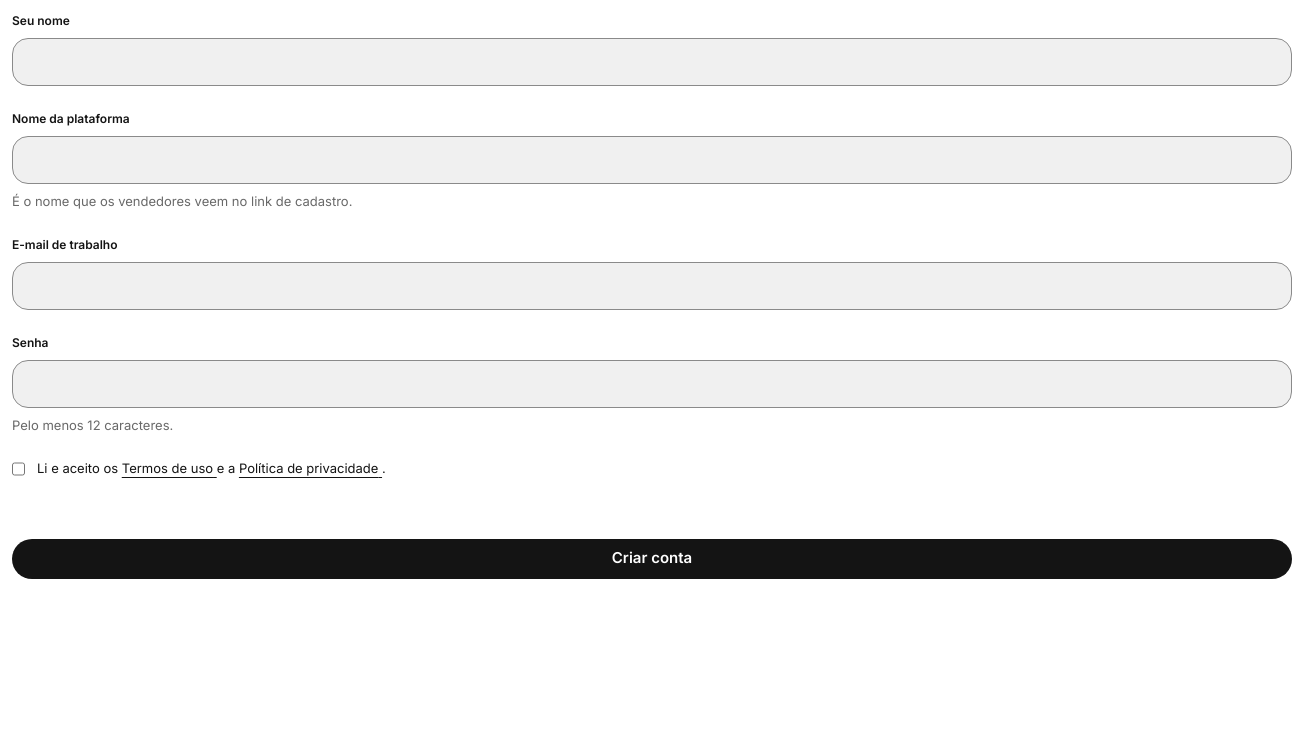
Test case: SignupForm (S1, AC 1, AC 2) › EMAIL_EM_USO: the message with working Entrar and Recuperar senha links
The width and height of the screenshot is (1304, 732).
Type "Pessoa Exemplo" into the field labelled "Seu nome".
click(652, 62); type("Pessoa Exemplo")  # box [12, 38, 1292, 86]
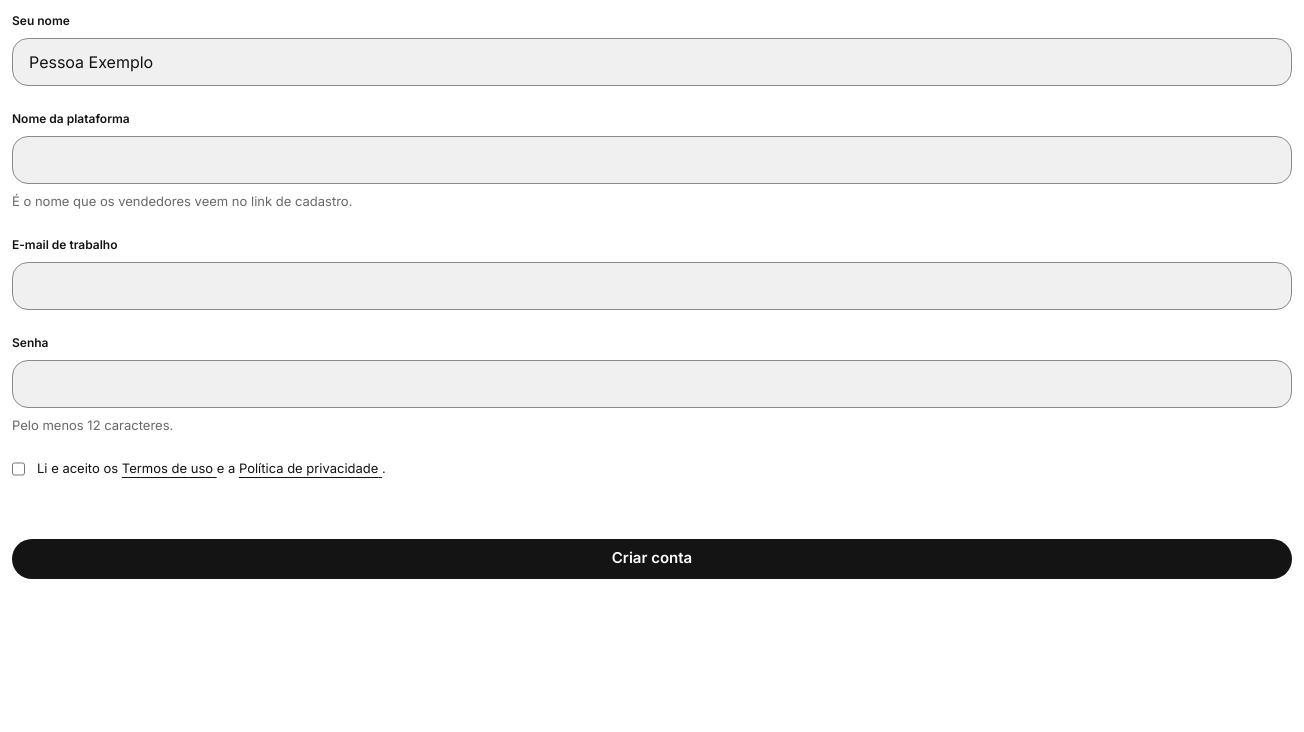
Type "Plataforma" into the field labelled "Nome da plataforma".
click(652, 160); type("Plataforma")  # box [12, 136, 1292, 184]
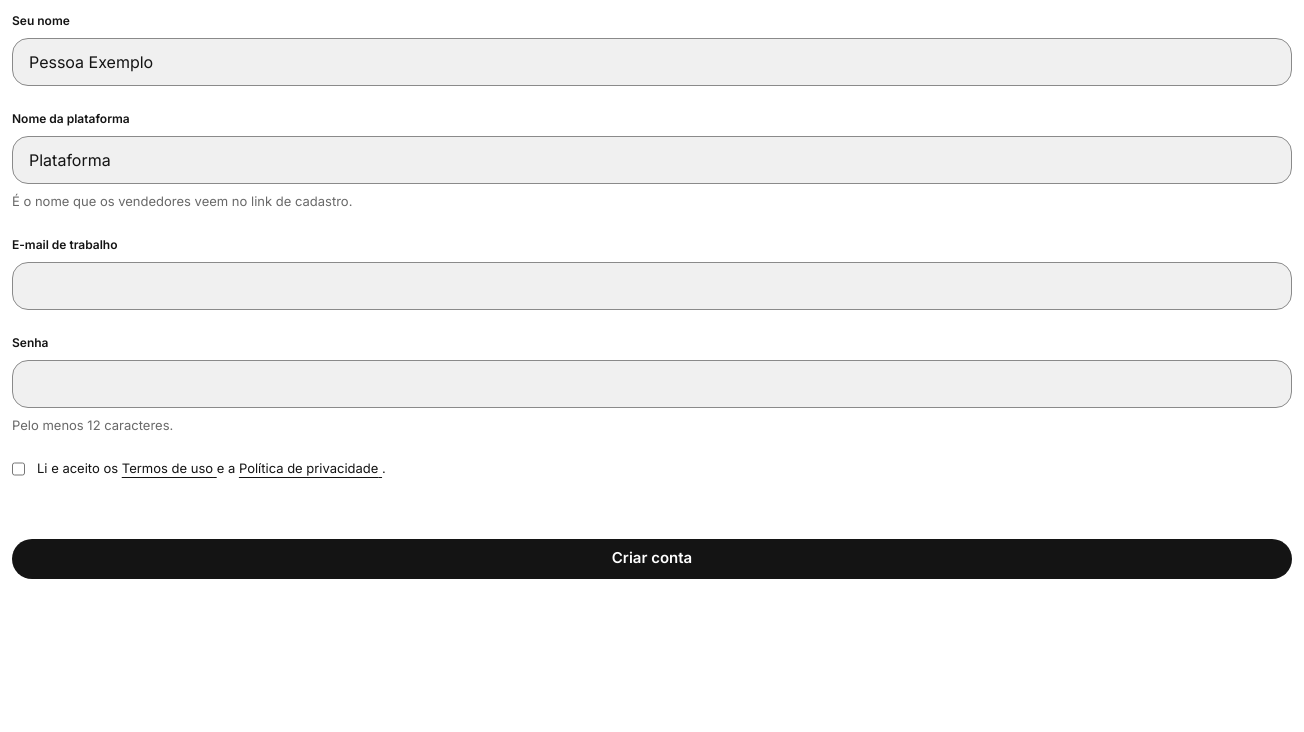
Type "pessoa@exemplo.test" into the field labelled "E-mail de trabalho".
click(652, 286); type("pessoa@exemplo.test")  # box [12, 262, 1292, 310]
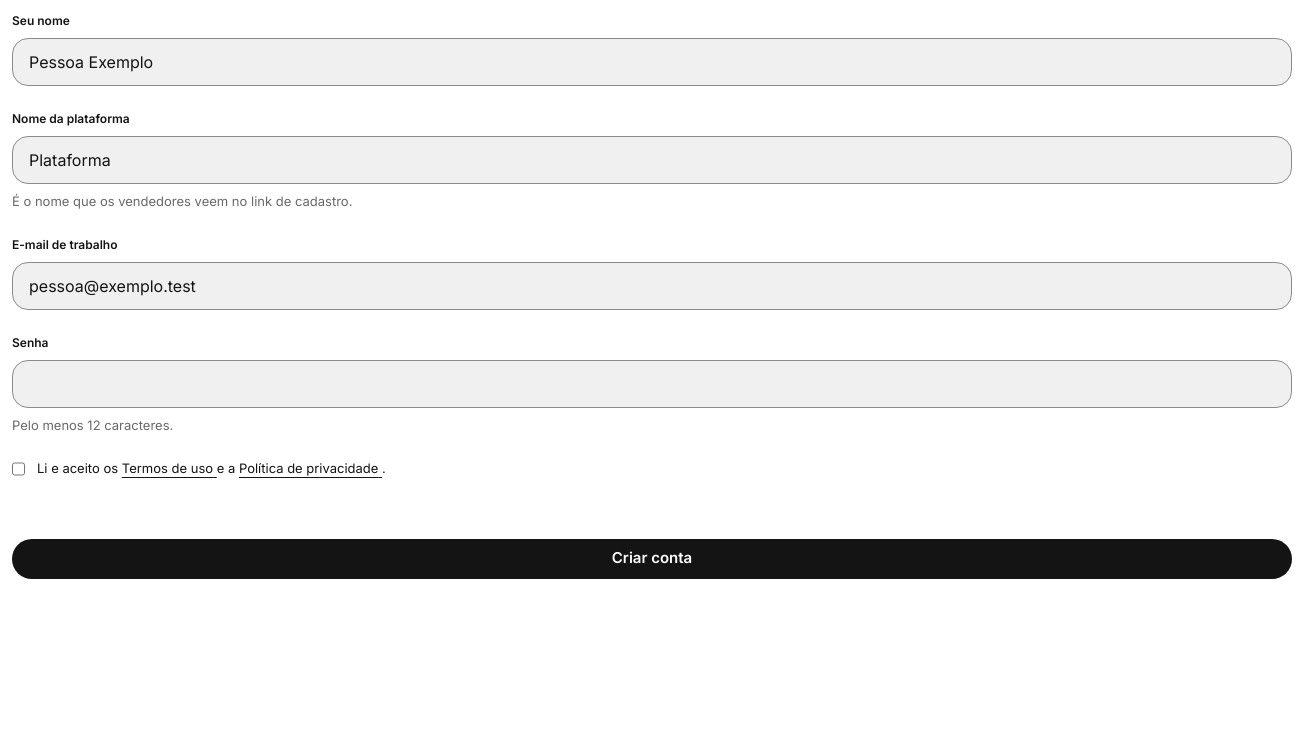
Type "senha-longa-123" into the password field labelled "Senha".
click(652, 384); type("senha-longa-123")  # box [12, 360, 1292, 408]
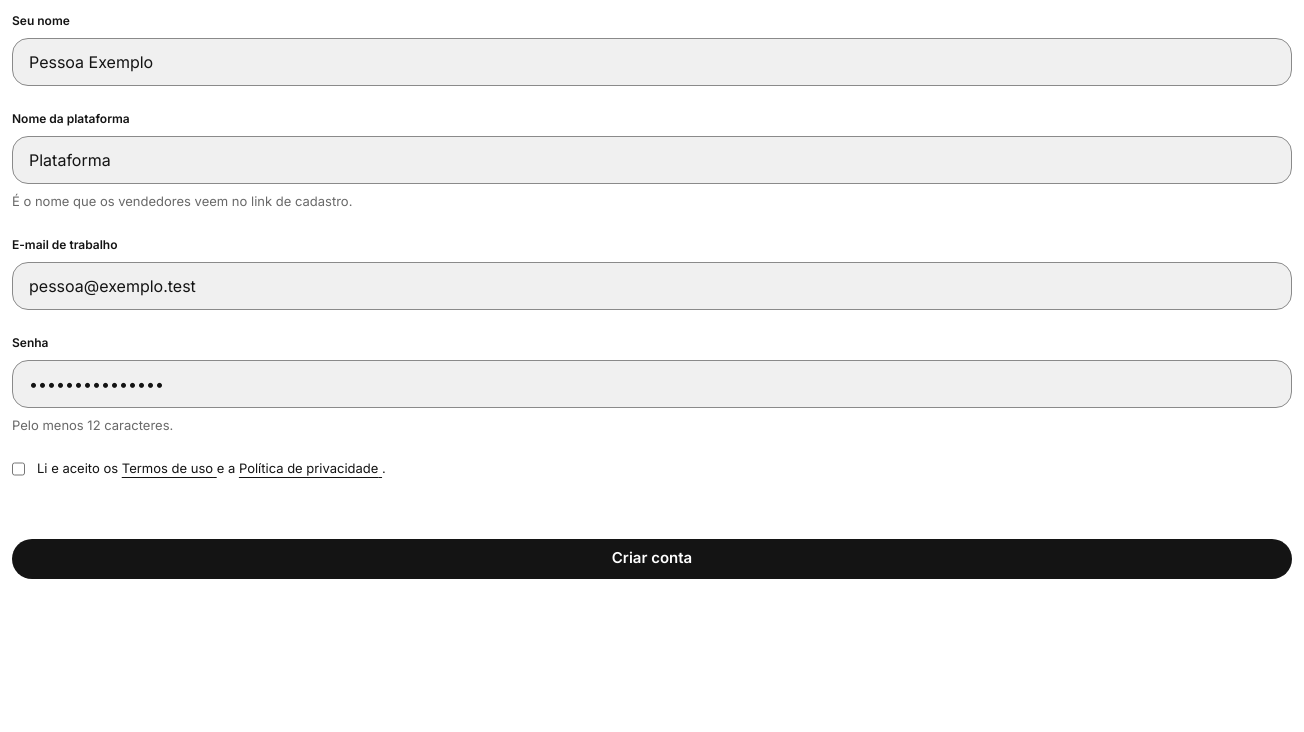
Click the checkbox.
click(18, 469)  # box [12, 459, 25, 478]
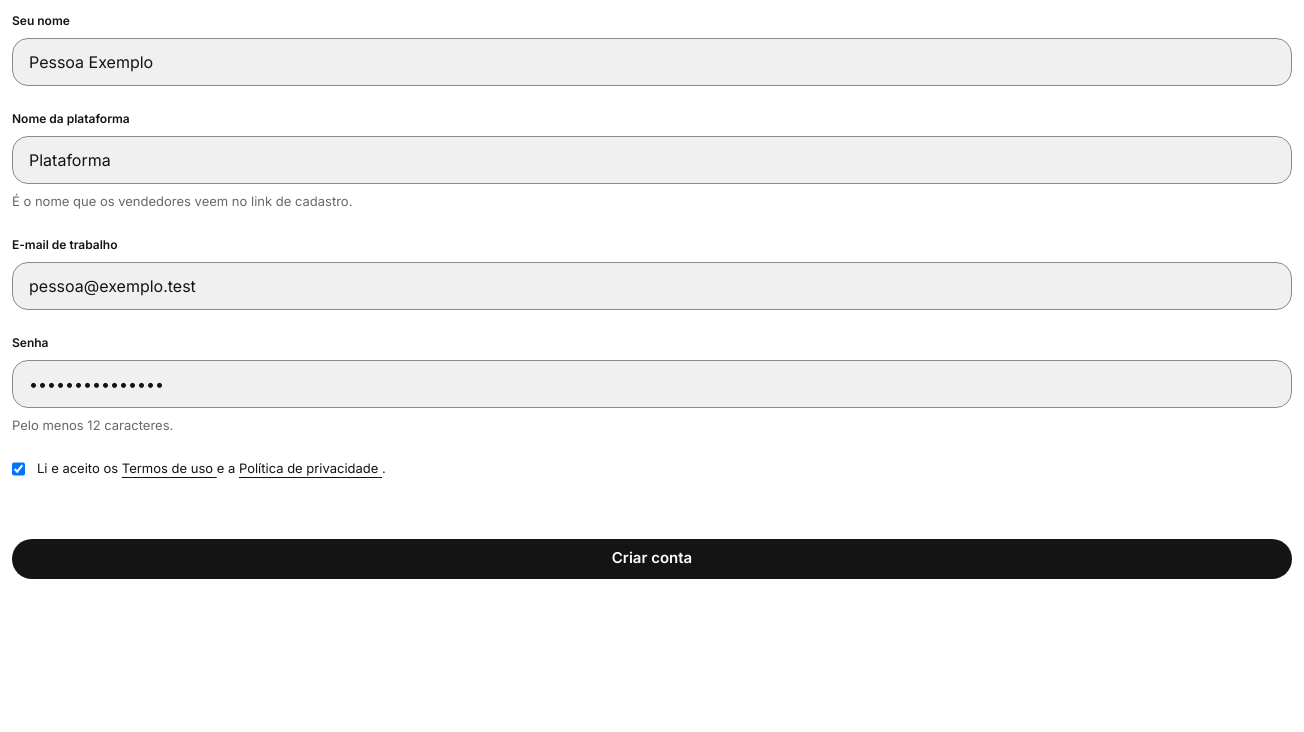
Click the button "Criar conta".
click(652, 558)  # box [12, 538, 1292, 578]
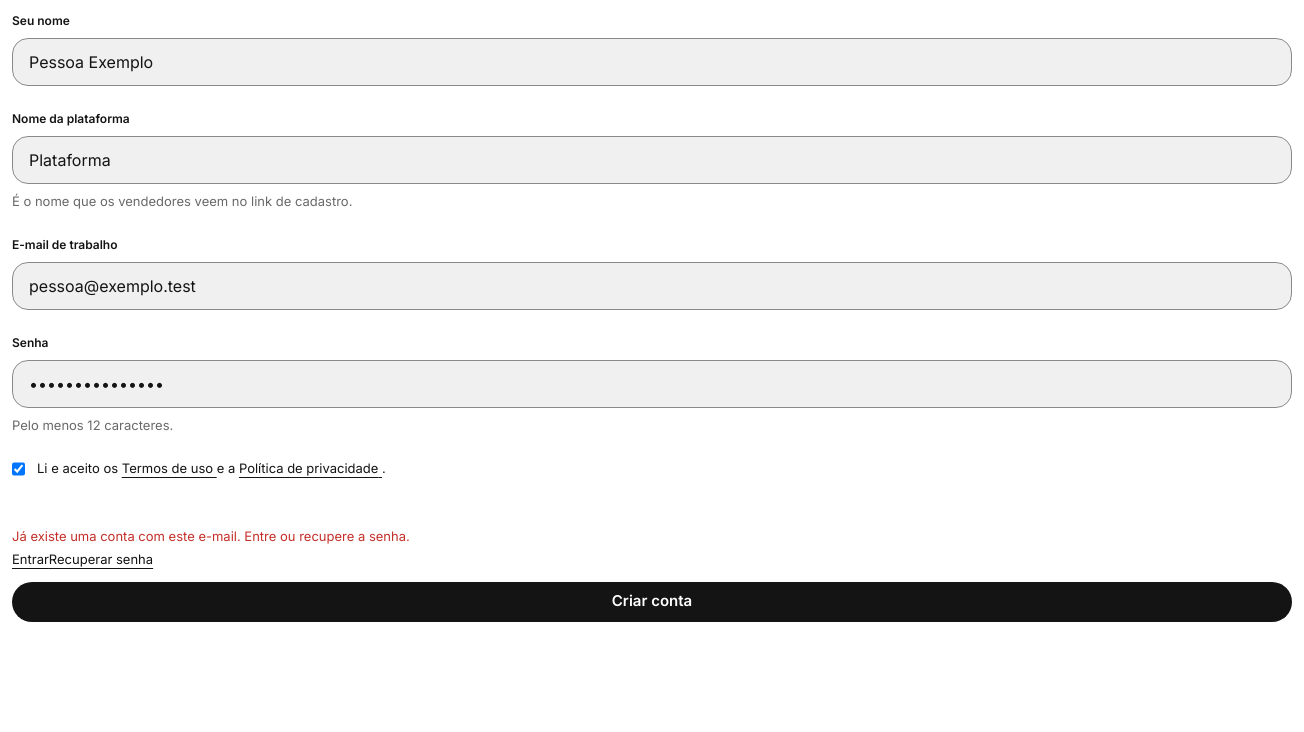
Now the message shows "Já existe uma conta com este e-mail. Entre ou recupere a senha.", box [12, 528, 410, 544]
